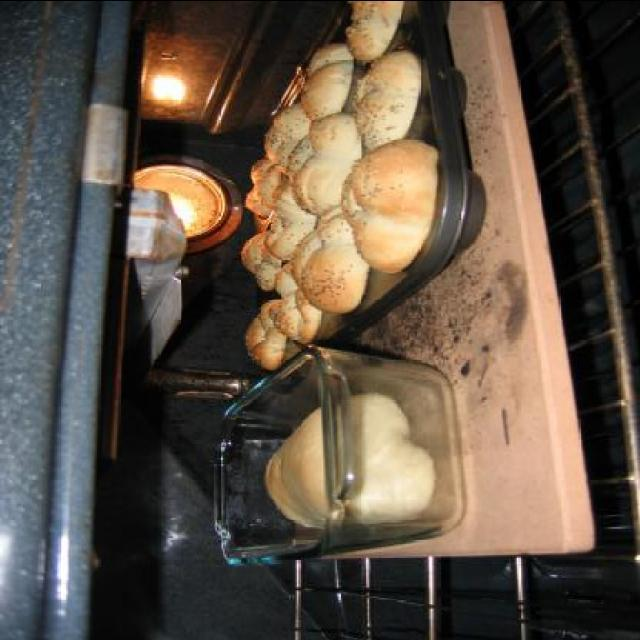Pancake: (338, 140, 434, 272)
